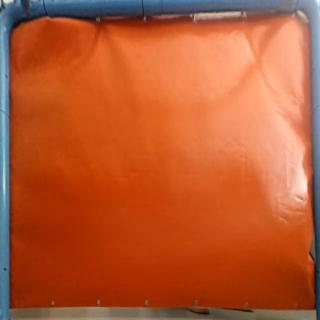Hit-hRxx: (302, 265, 314, 280)
